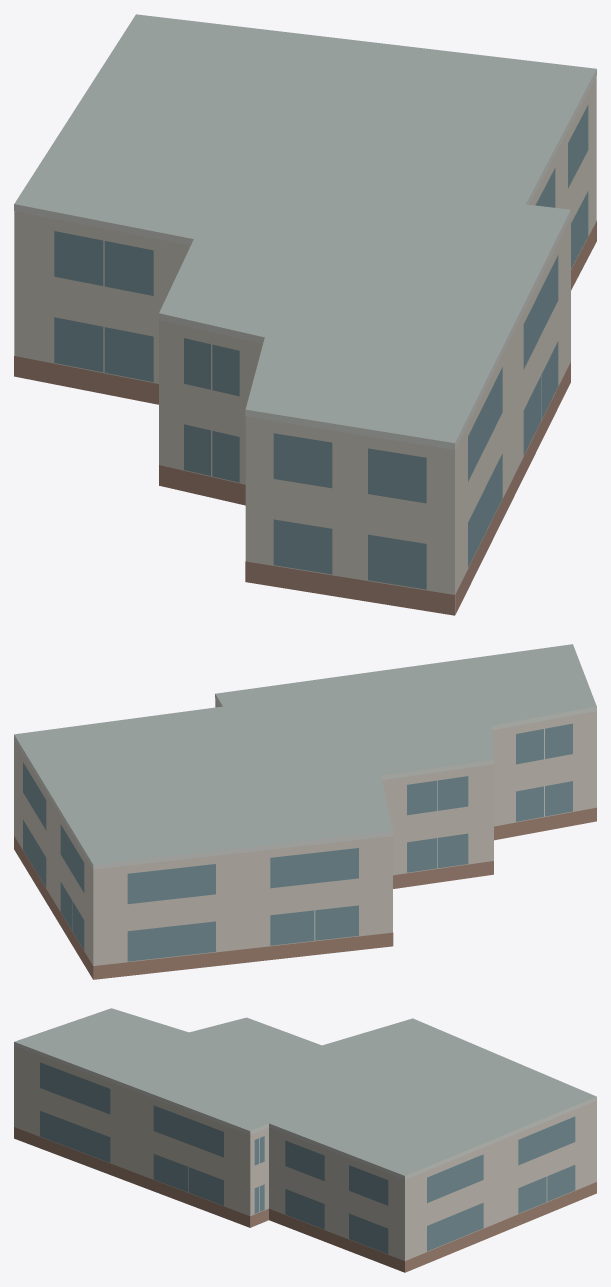
Rendered from survey-upis-32693042.glb.
3 renders of one model, top to bottom at view 1: azimuth 30°, elevation 25°; view 2: azimuth 150°, elevation 25°; view 3: azimuth 270°, elevation 25°, orthographic. The views are drawn at different scales.
Parts seen in each view (by area): view 1: survey-upis-32693042.tmp; view 2: survey-upis-32693042.tmp; view 3: survey-upis-32693042.tmp.
Part boxes in pixels (x1,y1,x2,y2): survey-upis-32693042.tmp: (14,14,596,615); survey-upis-32693042.tmp: (14,644,596,979); survey-upis-32693042.tmp: (14,1008,596,1272).
Size of the model in its own units: 22.7 by 6.1 by 33.31.
